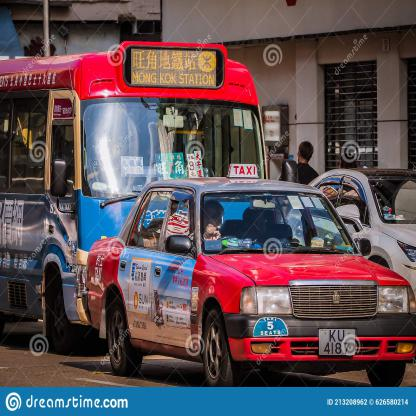taxi: (82, 158, 416, 388)
